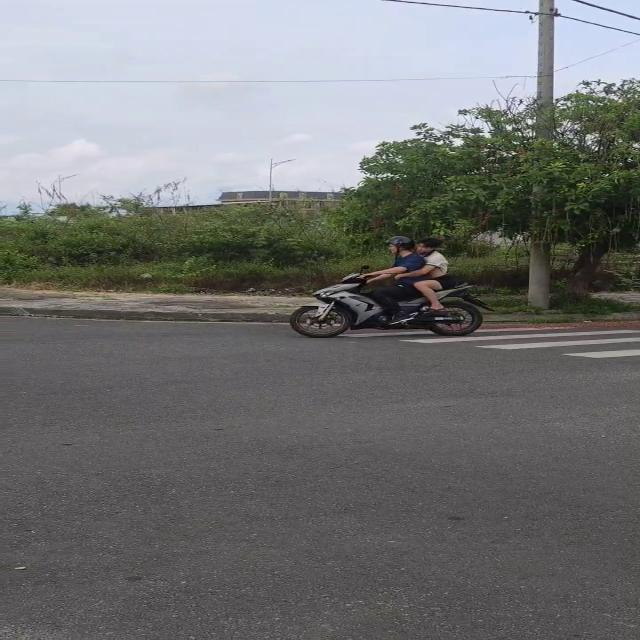helmet: (386, 232, 415, 256)
no_helmet: (423, 236, 442, 254)
